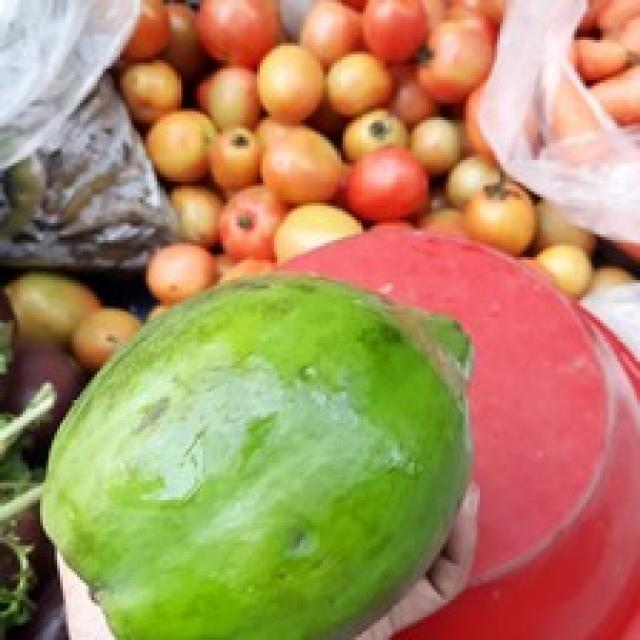Pepaya unrippen: (35, 258, 481, 640)
